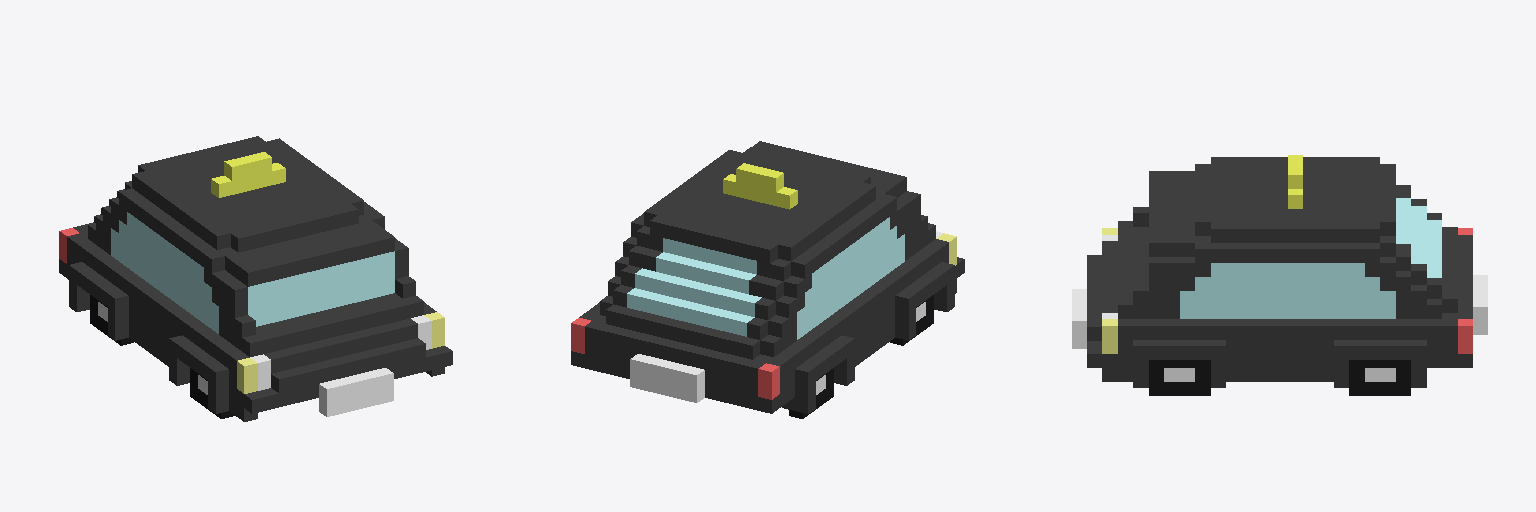
3 renders of one model, left to right at view 1: azimuth 30°, elevation 25°; view 2: azimuth 150°, elevation 25°; view 3: azimuth 270°, elevation 25°, orthographic.
Bounding box in the file's own units: 17 × 13 × 27.
Materials: 1 (1 with a texture image).